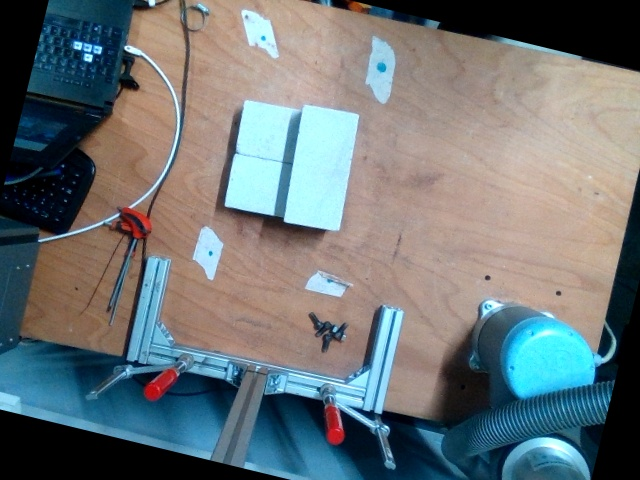brick: (282, 105, 358, 228)
